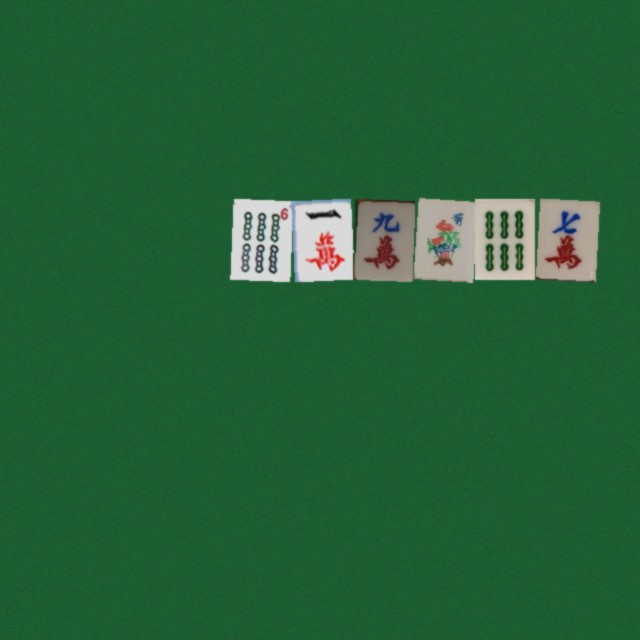tile: (230, 198, 290, 279), (291, 198, 351, 279), (352, 198, 412, 279), (413, 198, 473, 279), (474, 198, 534, 279), (535, 198, 595, 279)
